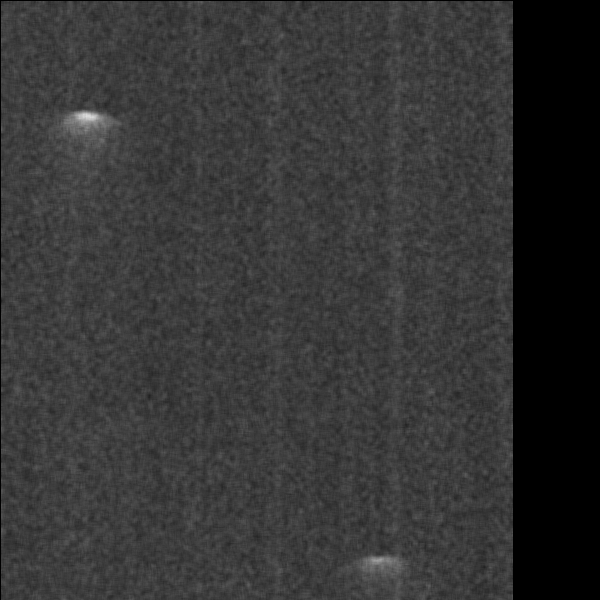spark: (57, 105, 116, 164), (351, 548, 403, 589)
